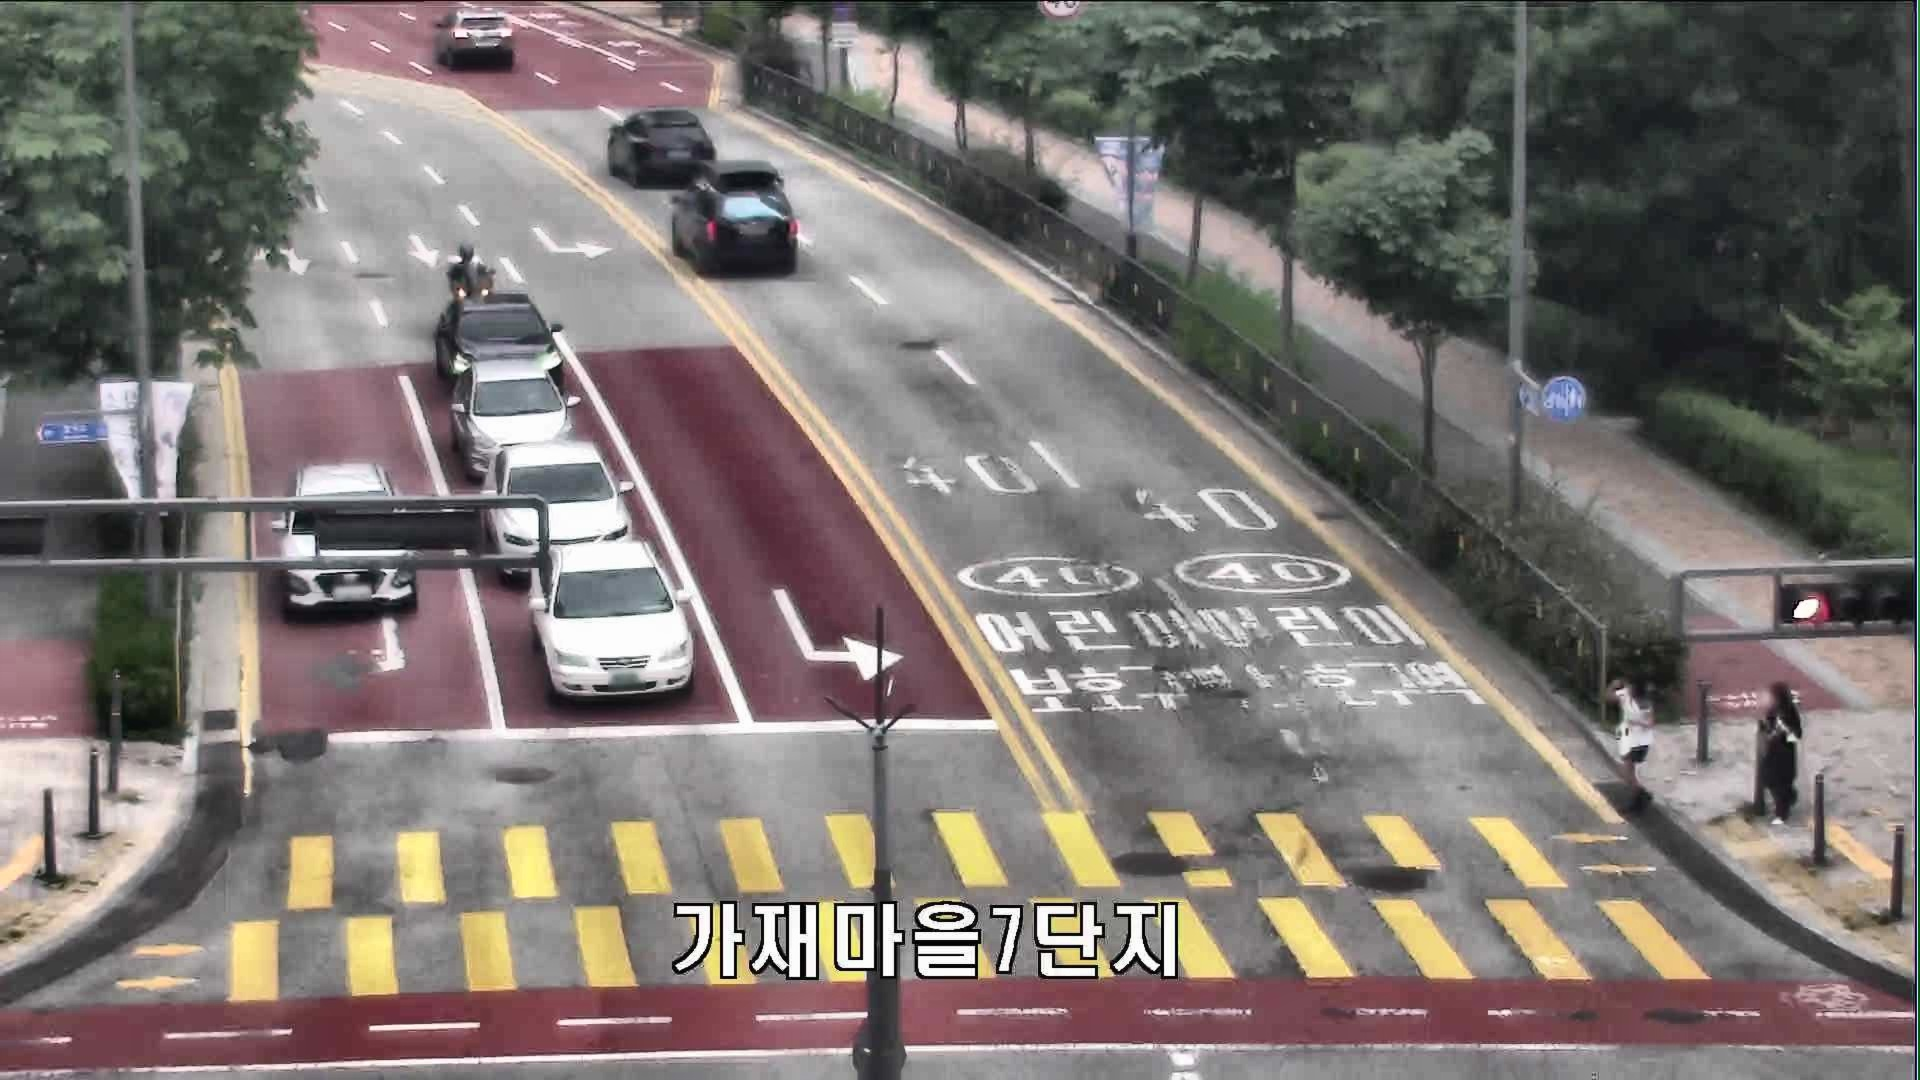crosswalk: (1596, 659, 1655, 819)
sidewalk: (1745, 679, 1804, 829)
